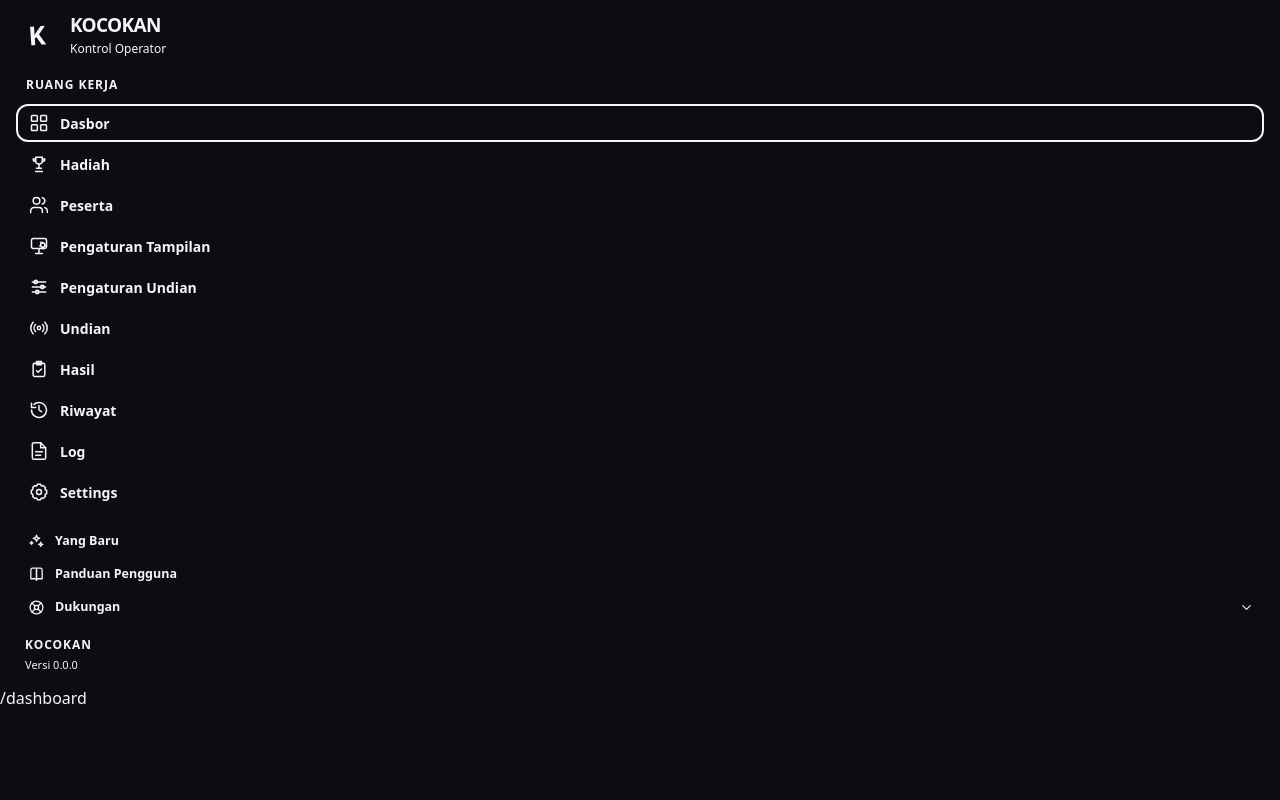
Test: production sidebar Event gating › navigates help without an event and preserves support disclosure and reporting
The width and height of the screenshot is (1280, 800).
Click the link "Yang Baru" at (73, 541), box [28,532,119,550]
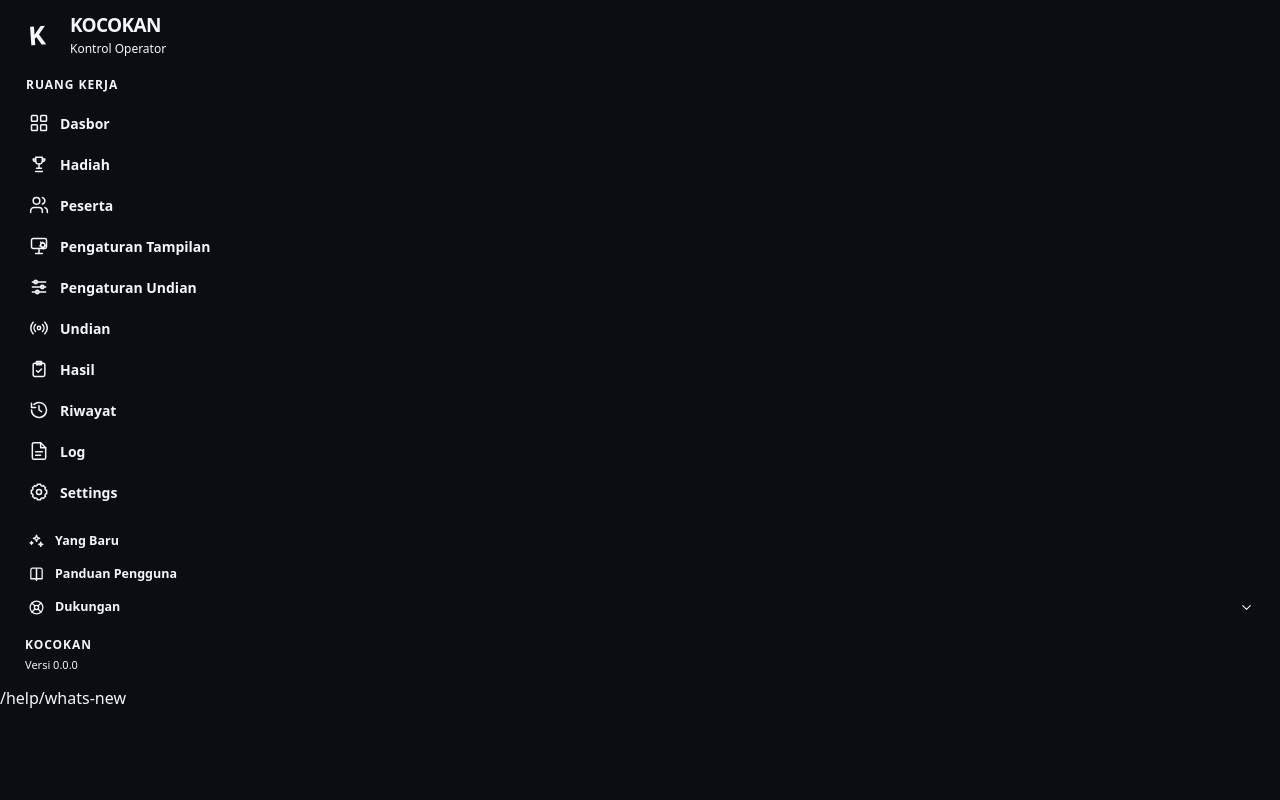
Result: the text with test id "location" reads "/help/whats-new" at [0,686,126,708]
Click the link "Panduan Pengguna" at (102, 574), box [28,565,177,583]
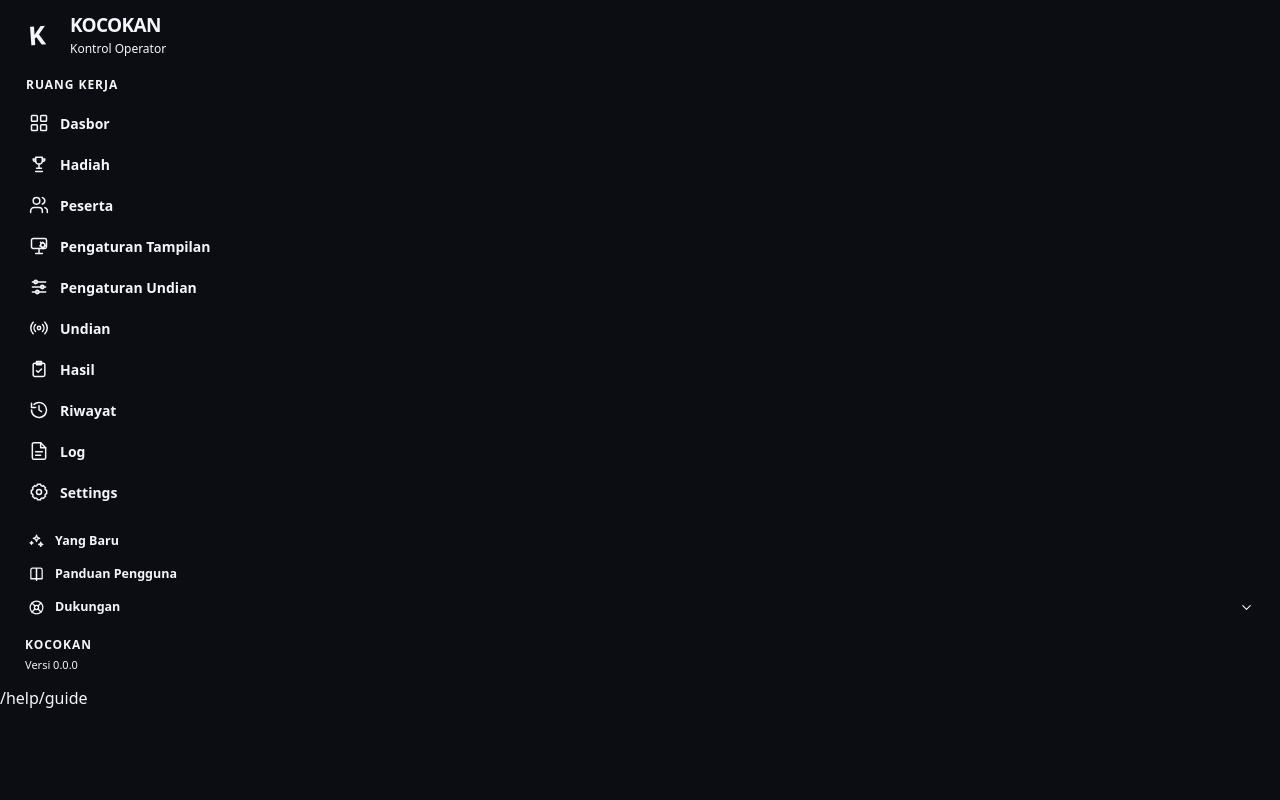
Result: the text with test id "location" reads "/help/guide" at [0,686,88,708]
Press Enter
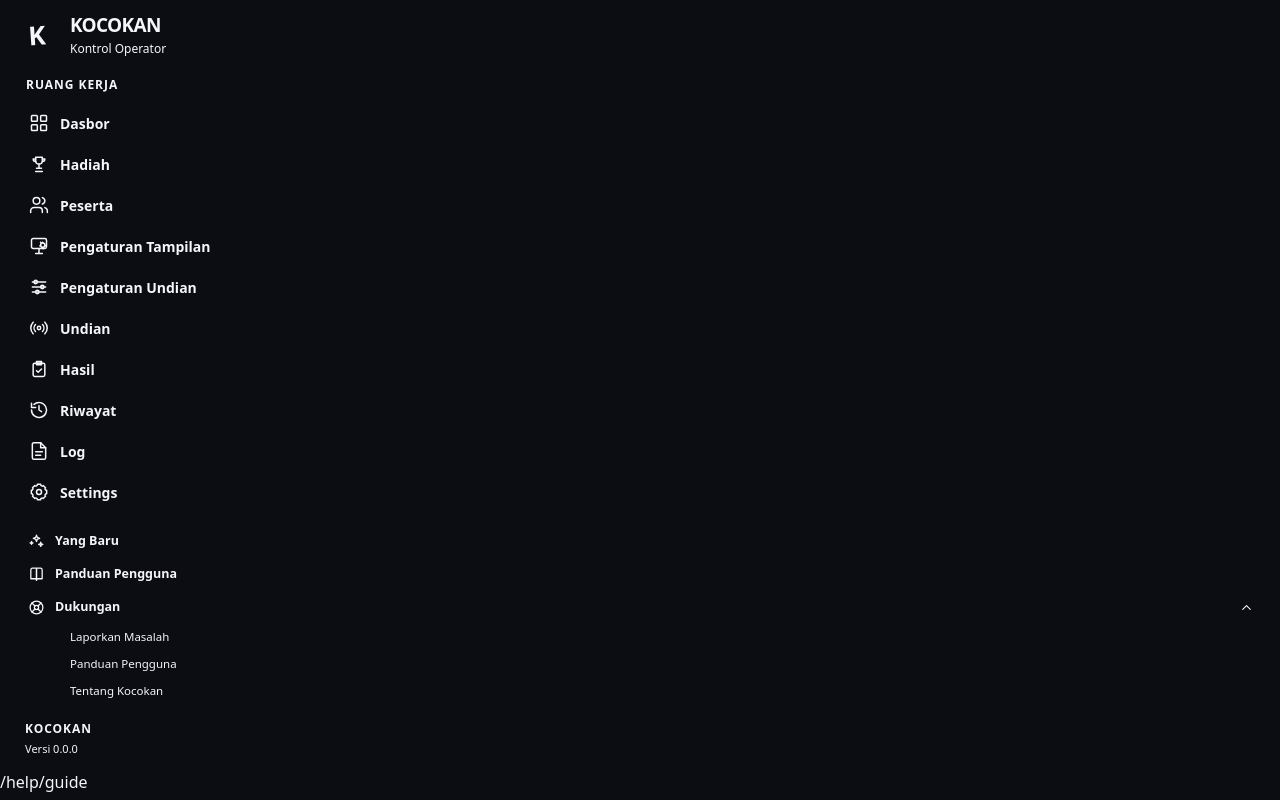
Result: the button "Dukungan" is expanded at [16,592,1264,623]
Click the button "Laporkan Masalah" at (120, 637), box [45,624,1264,650]
(page scrolled)
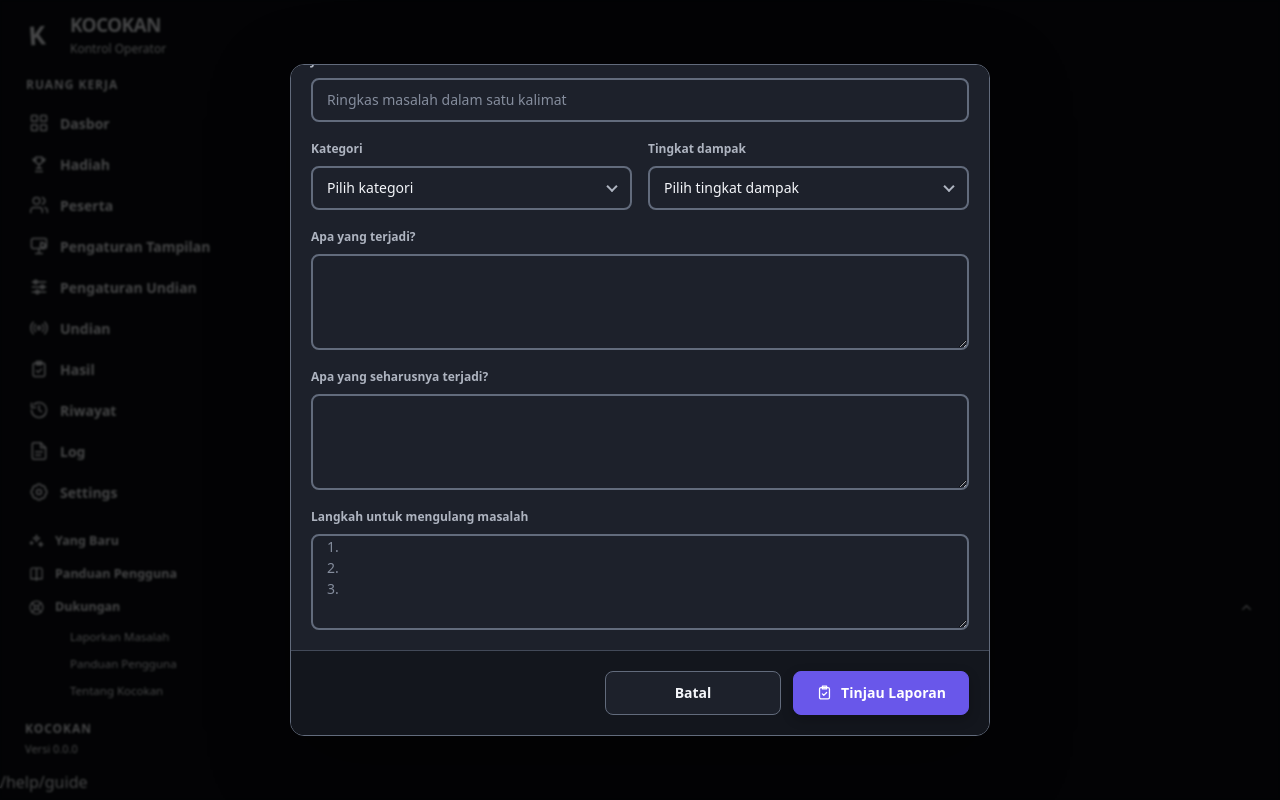
Result: the dialog "Laporkan Masalah" is shown at [290,64,990,736]
Click the button "Batal" at (693, 693), box [605,671,781,715]
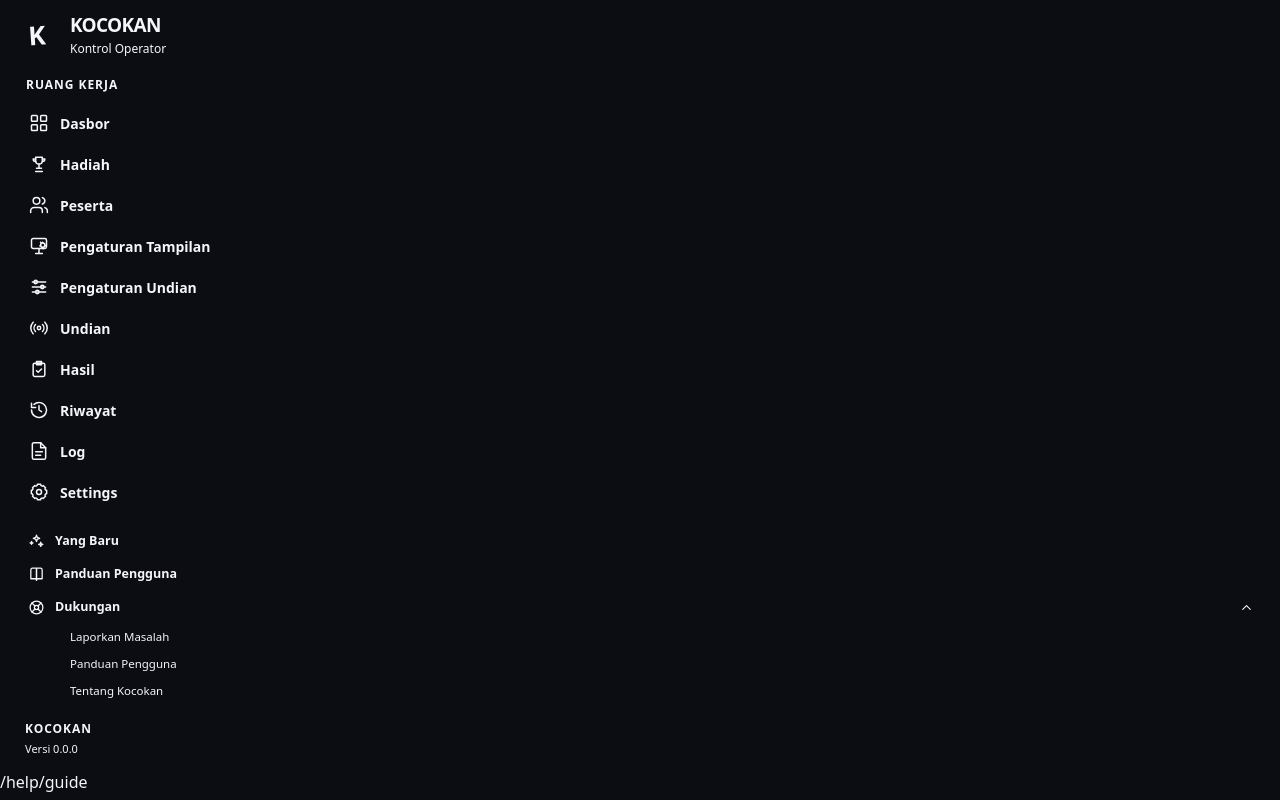
Result: the dialog is gone
Click the button "Dukungan" at (88, 607), box [16,592,1264,623]
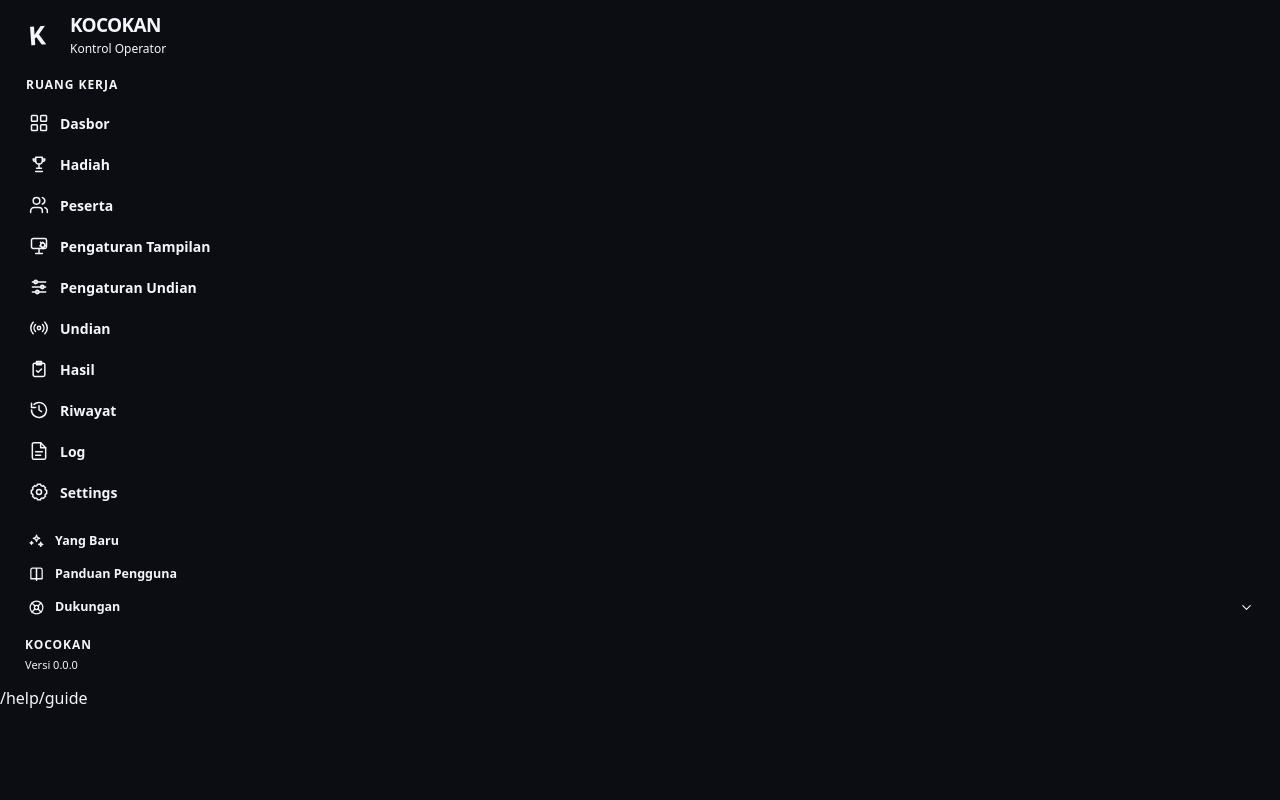
Result: the button "Dukungan" is collapsed at [16,592,1264,623]
